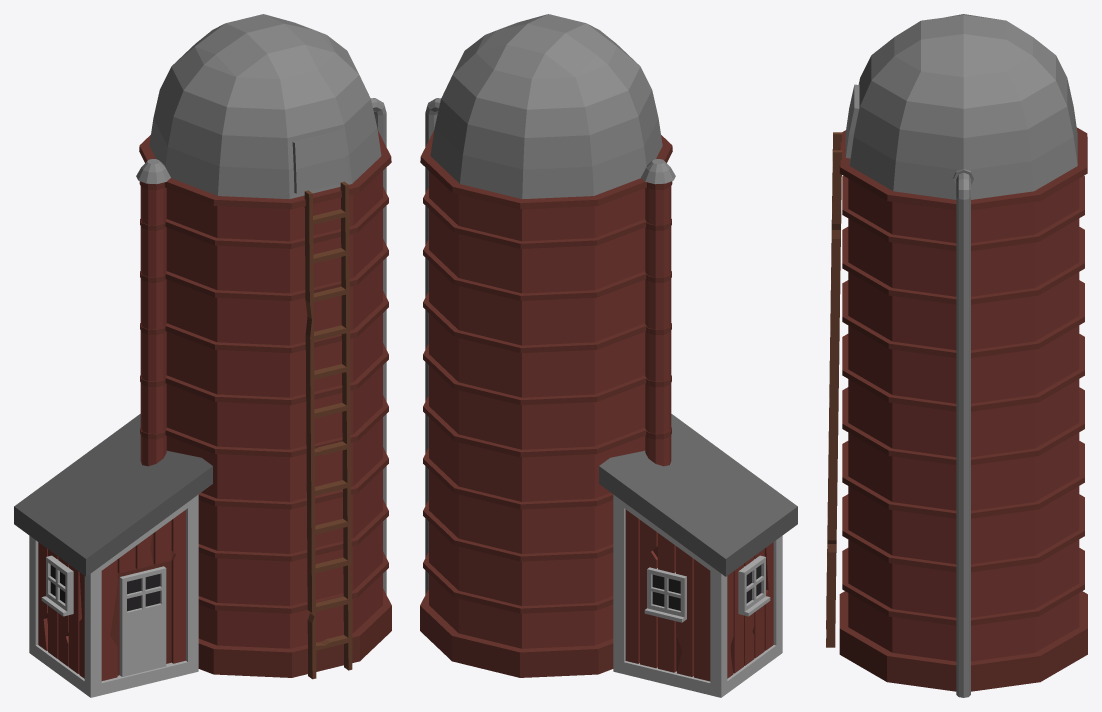
File: Silo_House.glb
3 views of the same model, side by side, from view 1: azimuth 30°, elevation 25°; view 2: azimuth 150°, elevation 25°; view 3: azimuth 270°, elevation 25° (orthographic). The views are drawn at different scales.
Visible parts, largest first — view 1: Silo_House_Body; view 2: Silo_House_Body; view 3: Silo_House_Body.
Boxes of the visible parts, x1,y1,x2,y2 form: Silo_House_Body: [14, 14, 391, 697]; Silo_House_Body: [420, 14, 797, 697]; Silo_House_Body: [826, 14, 1087, 697].
Size of the model in its own units: 5.34 by 9.07 by 3.51.
